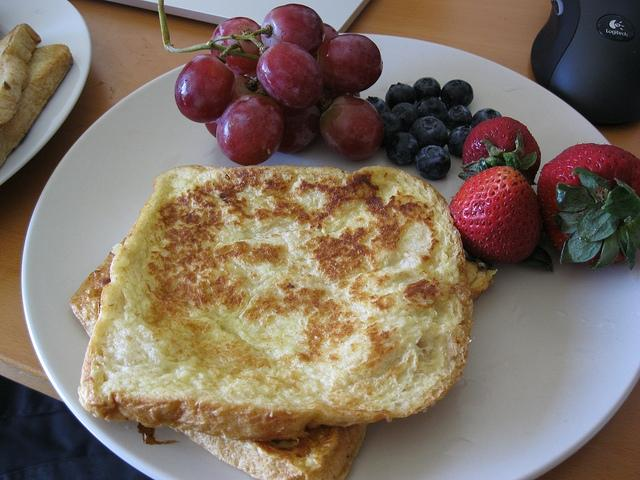blueberry: (409, 116, 448, 152), (414, 145, 451, 180), (386, 132, 418, 166), (441, 80, 474, 111), (386, 82, 416, 112), (447, 126, 473, 160), (380, 112, 404, 147), (391, 102, 419, 132), (416, 97, 447, 122), (443, 104, 472, 130), (412, 77, 442, 102), (471, 108, 502, 128), (365, 96, 389, 114)
grape: (217, 84, 284, 167), (174, 42, 242, 123), (317, 94, 385, 162), (257, 42, 325, 108), (317, 34, 383, 94), (260, 3, 325, 56), (210, 17, 264, 75), (277, 106, 320, 154), (324, 23, 339, 41)
strawberry: (537, 143, 640, 271), (450, 152, 542, 264), (458, 116, 542, 185)
